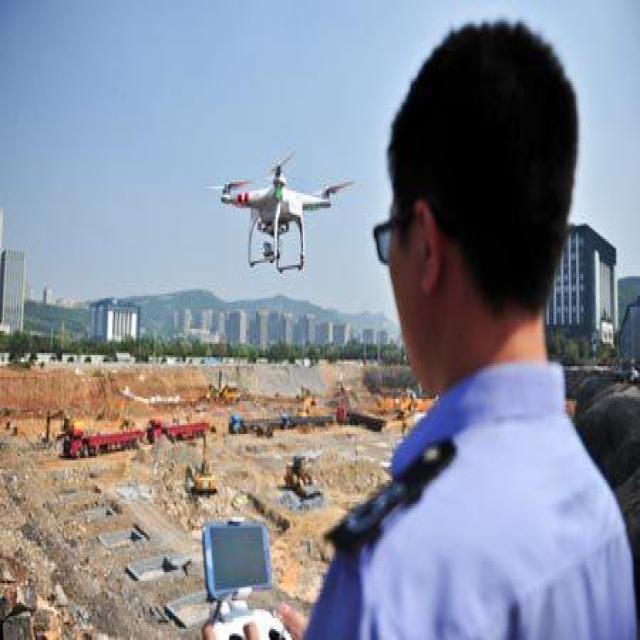drones: (201, 147, 357, 288)
